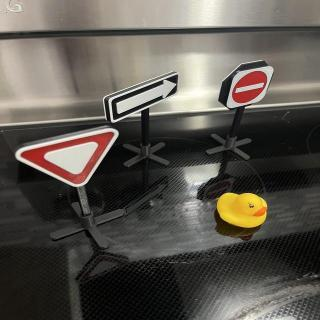duck_regular: (218, 194, 268, 232)
sign_noentry: (225, 65, 275, 111)
sign_oneway_right: (104, 72, 181, 124)
sign_yield: (15, 128, 121, 190)
